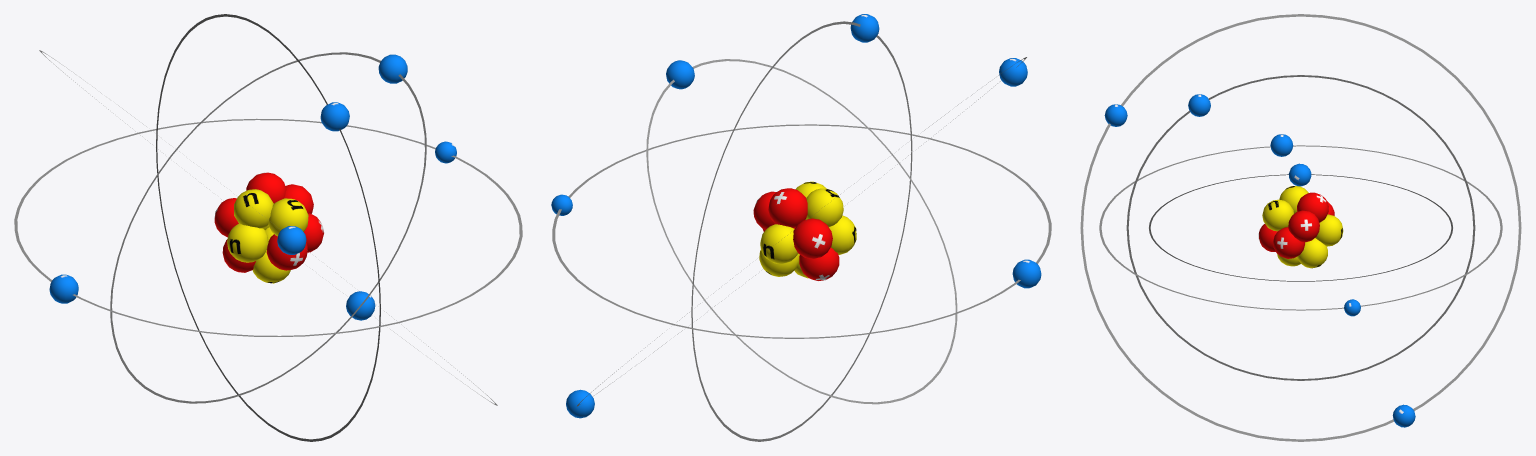
The model's file is atomo_V7.glb.
3 renders of one model, left to right at view 1: azimuth 30°, elevation 25°; view 2: azimuth 150°, elevation 25°; view 3: azimuth 270°, elevation 25°, orthographic. The views are drawn at different scales.
Parts seen in each view (by area): view 1: Cube.014; view 2: Cube.014; view 3: Cube.014.
Part boxes in pixels (bbox=[...]): Cube.014: bbox=[14, 14, 522, 441]; Cube.014: bbox=[551, 14, 1051, 441]; Cube.014: bbox=[1080, 14, 1521, 441].
Bounding box in the file's own units: 17.92 × 15.04 × 19.64.
4 materials, 3 textured.
